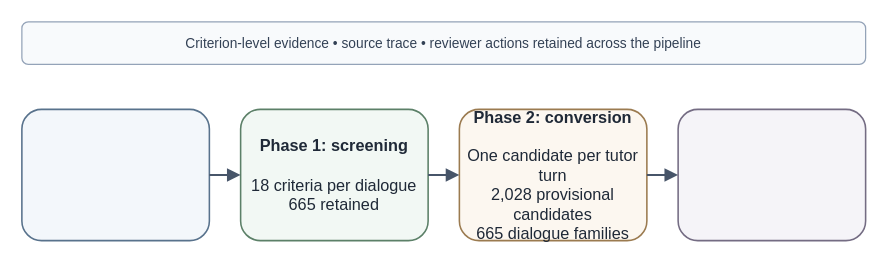
Some shapes in this 889 by 265 pixel diagram are drawn without their labels. The shapes that lost their labels are listed below. From the top down, each one's box as (x1, y1, x2, y2) in pixels, then its label:
(20, 108, 210, 241): Teacher-authored dialogues 1,050 samples Grades 6--9
(677, 108, 866, 241): Phase 3: Requirement Scoring
